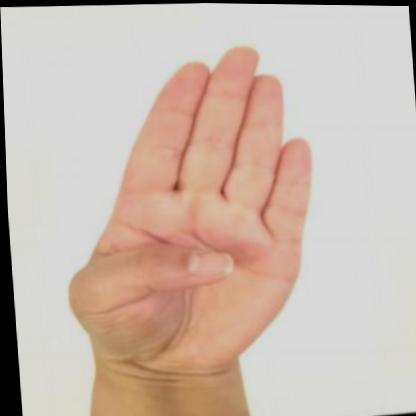B: (26, 30, 346, 398)
